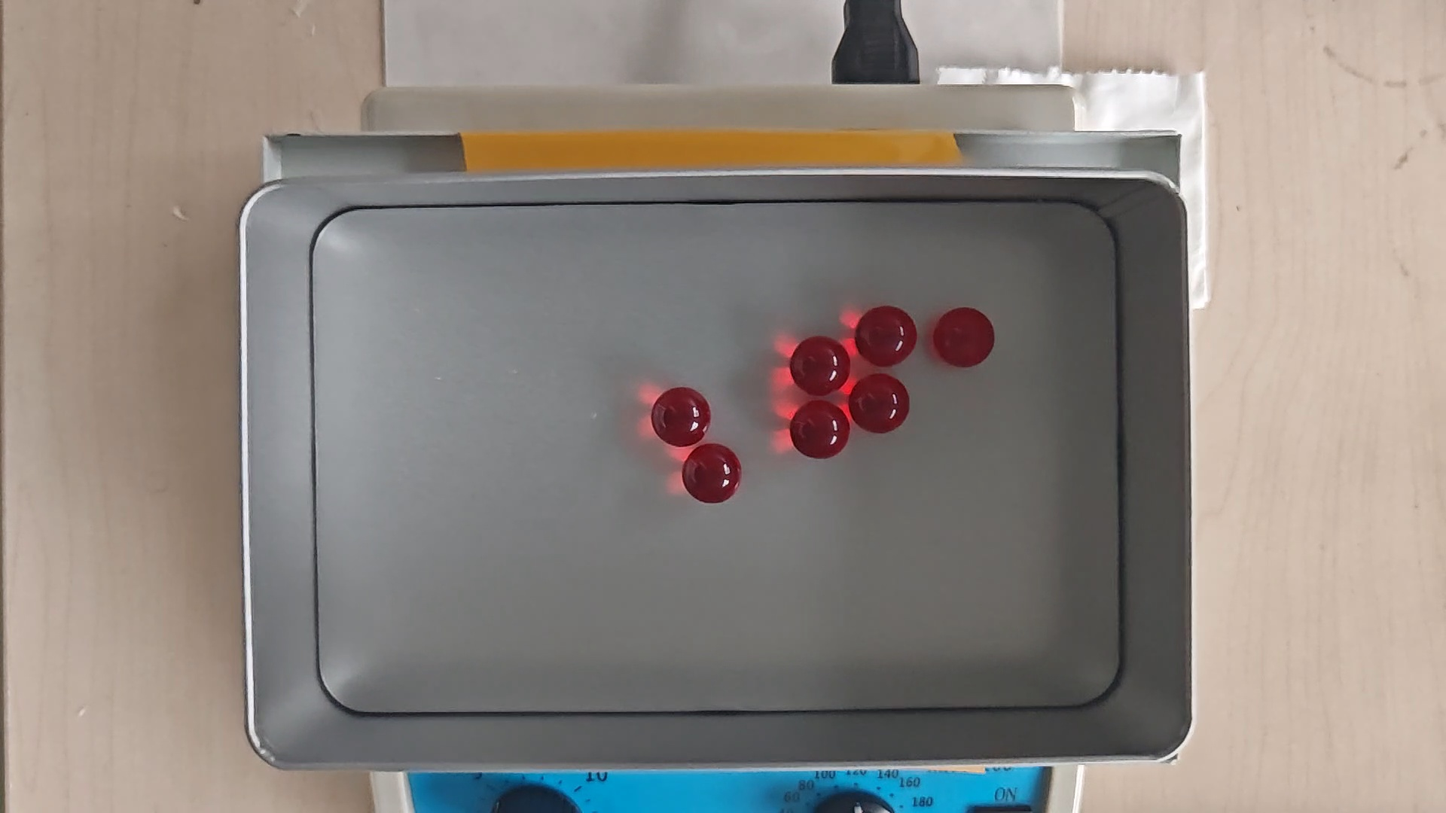ball: (855, 306, 917, 365), (850, 376, 911, 434), (934, 306, 991, 368), (651, 386, 710, 445), (683, 444, 741, 504), (791, 400, 849, 460), (791, 336, 848, 396)
container: (308, 202, 1121, 714)
